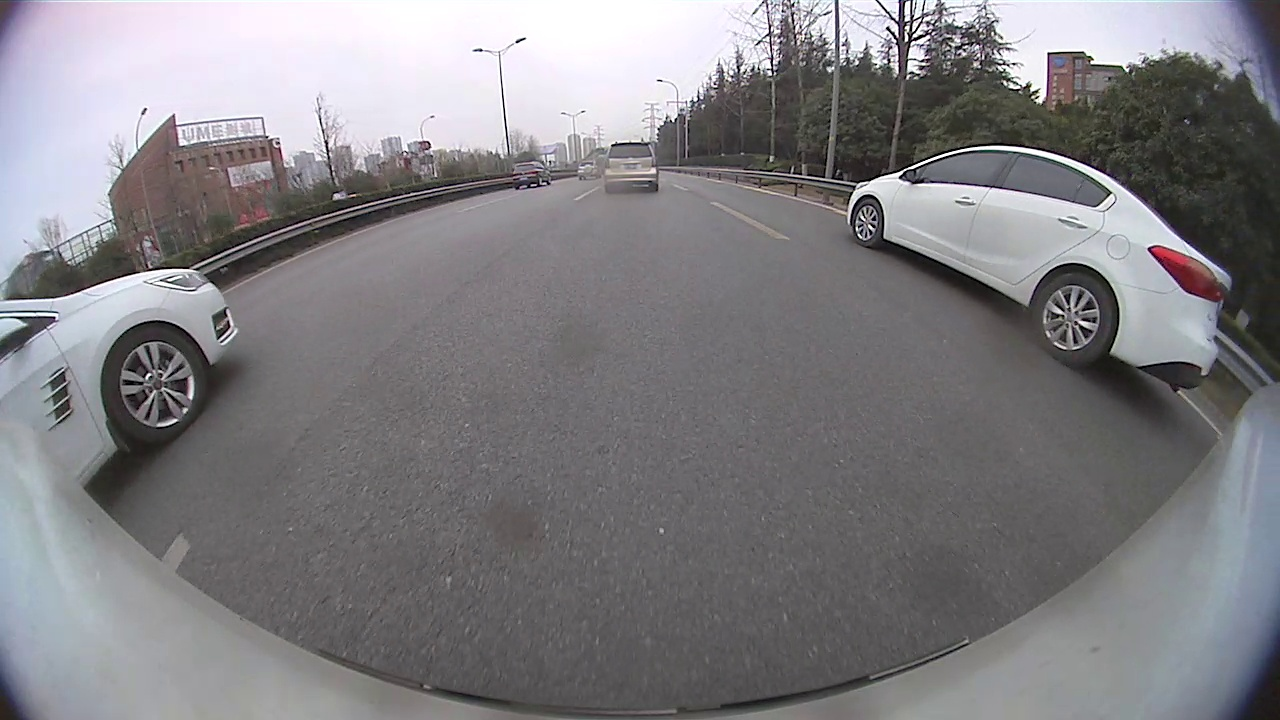car: (847, 144, 1233, 392), (1, 268, 243, 491), (601, 142, 660, 192), (513, 160, 552, 189), (577, 160, 602, 180)
front: (101, 325, 212, 447), (850, 198, 885, 249)
rear: (1030, 272, 1115, 367)
